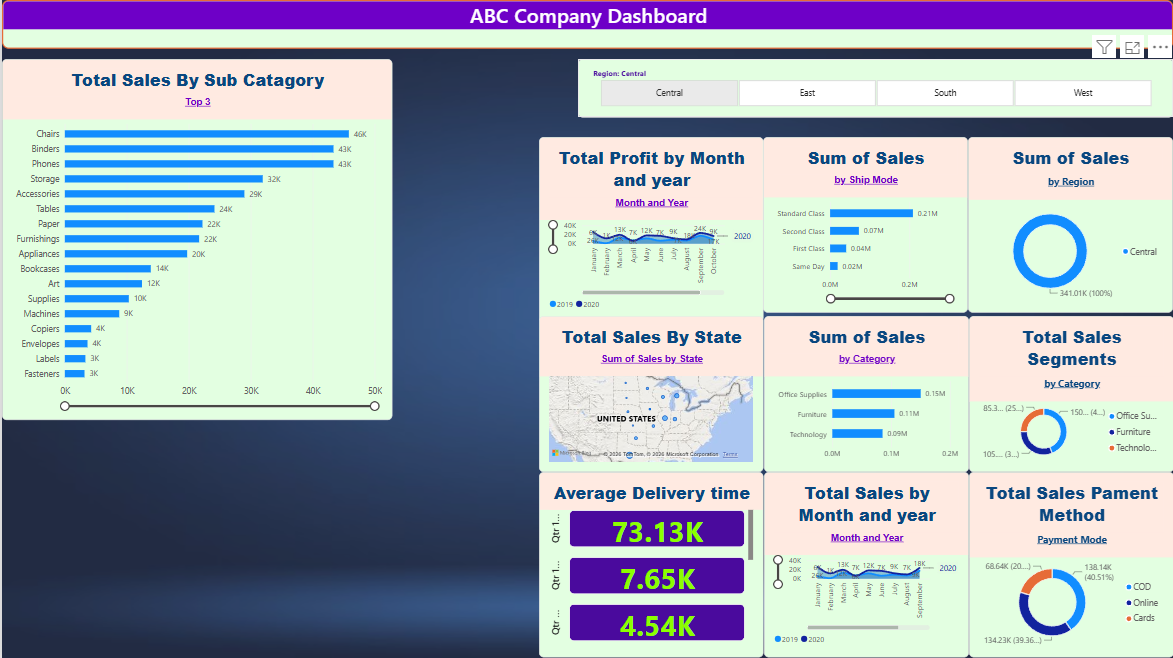

The page's visual inventory and layout, read from the dashboard file:
{"tool":"powerbi","page":{"name":"ABC Company Dashboard","canvas":[1920,1080],"ordinal":1},"visuals":[{"type":"textbox","title":"ABC Company Dashboard","box":[0,0,1920,80],"z":0},{"type":"barChart","fields":{"Category":["Sheet1.Category"],"Y":["Sum(Sheet1.Sales)"]},"box":[1248.4,518.3,336,256],"z":1000},{"type":"barChart","title":"Total Sales By Sub Catagory","fields":{"Category":["Sheet1.Sub-Category"],"Y":["Sum(Sheet1.Sales)"]},"box":[0,96,640,592],"z":2000},{"type":"barChart","fields":{"Category":["Sheet1.Ship Mode"],"Y":["Sum(Sheet1.Sales)"]},"box":[1248,224,336,288],"z":3000},{"type":"donutChart","fields":{"Category":["Sheet1.Region"],"Y":["Sum(Sheet1.Sales)"]},"box":[1584,224,336,288],"z":4000},{"type":"donutChart","title":"Total  Sales Segments","fields":{"Category":["Sheet1.Category"],"Y":["Sum(Sheet1.Sales)"]},"box":[1584.4,518.3,336,256],"z":5000},{"type":"donutChart","title":"Total  Sales Pament Method","fields":{"Category":["Sheet1.Payment Mode"],"Y":["Sum(Sheet1.Sales)"]},"box":[1584.4,774.3,336,304],"z":6000},{"type":"areaChart","title":"Total Sales by Month and year","fields":{"Category":["Sheet1.Order Date.Variation.Date Hierarchy.Month"],"Series":["Sheet1.Order Date.Variation.Date Hierarchy.Year"],"Y":["Sum(Sheet1.Sales)"]},"box":[1248.4,774.3,336,304],"z":7000},{"type":"areaChart","title":"Total Profit by Month and year","fields":{"Category":["Sheet1.Order Date.Variation.Date Hierarchy.Month"],"Series":["Sheet1.Order Date.Variation.Date Hierarchy.Year"],"Y":["Sum(Sheet1.Sales)"]},"box":[880,224,368,304],"z":8000},{"type":"map","title":"Total Sales By State","fields":{"Category":["Sheet1.State"],"Size":["Sum(Sheet1.Sales)"]},"box":[880.4,518.3,368,256],"z":9000},{"type":"cardVisual","title":"Average Delivery time","fields":{"Data":["Sum(Sheet1.Sales)"],"Rows":["Sheet1.Ship Date.Variation.Date Hierarchy.Quarter","Sheet1.Order Date.Variation.Date Hierarchy.Quarter"]},"box":[880.4,774.3,368,304],"z":10000},{"type":"slicer","fields":{"Values":["Sheet1.Region"]},"box":[944,96,976,96],"z":11000}]}

Visuals, with their boxes in screenshot pixels (x1, y1, x2, y2), scaled from the page's 1920x1080 canvas onto the 1173x658 screenshot:
"ABC Company Dashboard" textbox: select_region(0, 0, 1172, 49)
barChart - Sheet1.Category x Sum(Sheet1.Sales): select_region(763, 316, 968, 472)
"Total Sales By Sub Catagory" barChart: select_region(0, 58, 391, 419)
barChart - Sheet1.Ship Mode x Sum(Sheet1.Sales): select_region(762, 136, 968, 312)
donutChart - Sheet1.Region x Sum(Sheet1.Sales): select_region(968, 136, 1172, 312)
"Total  Sales Segments" donutChart: select_region(968, 316, 1172, 472)
"Total  Sales Pament Method" donutChart: select_region(968, 472, 1172, 657)
"Total Sales by Month and year" areaChart: select_region(763, 472, 968, 657)
"Total Profit by Month and year" areaChart: select_region(538, 136, 762, 322)
"Total Sales By State" map: select_region(538, 316, 763, 472)
"Average Delivery time" cardVisual: select_region(538, 472, 763, 657)
slicer - Sheet1.Region: select_region(577, 58, 1172, 117)
